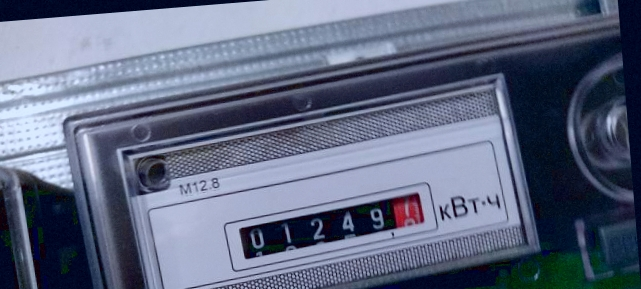0: (245, 222, 266, 249)
1: (276, 218, 293, 244)
2: (306, 214, 328, 241)
4: (338, 205, 358, 233)
7: (397, 193, 414, 218)
9: (366, 203, 386, 229)
screen: (215, 182, 453, 275)
